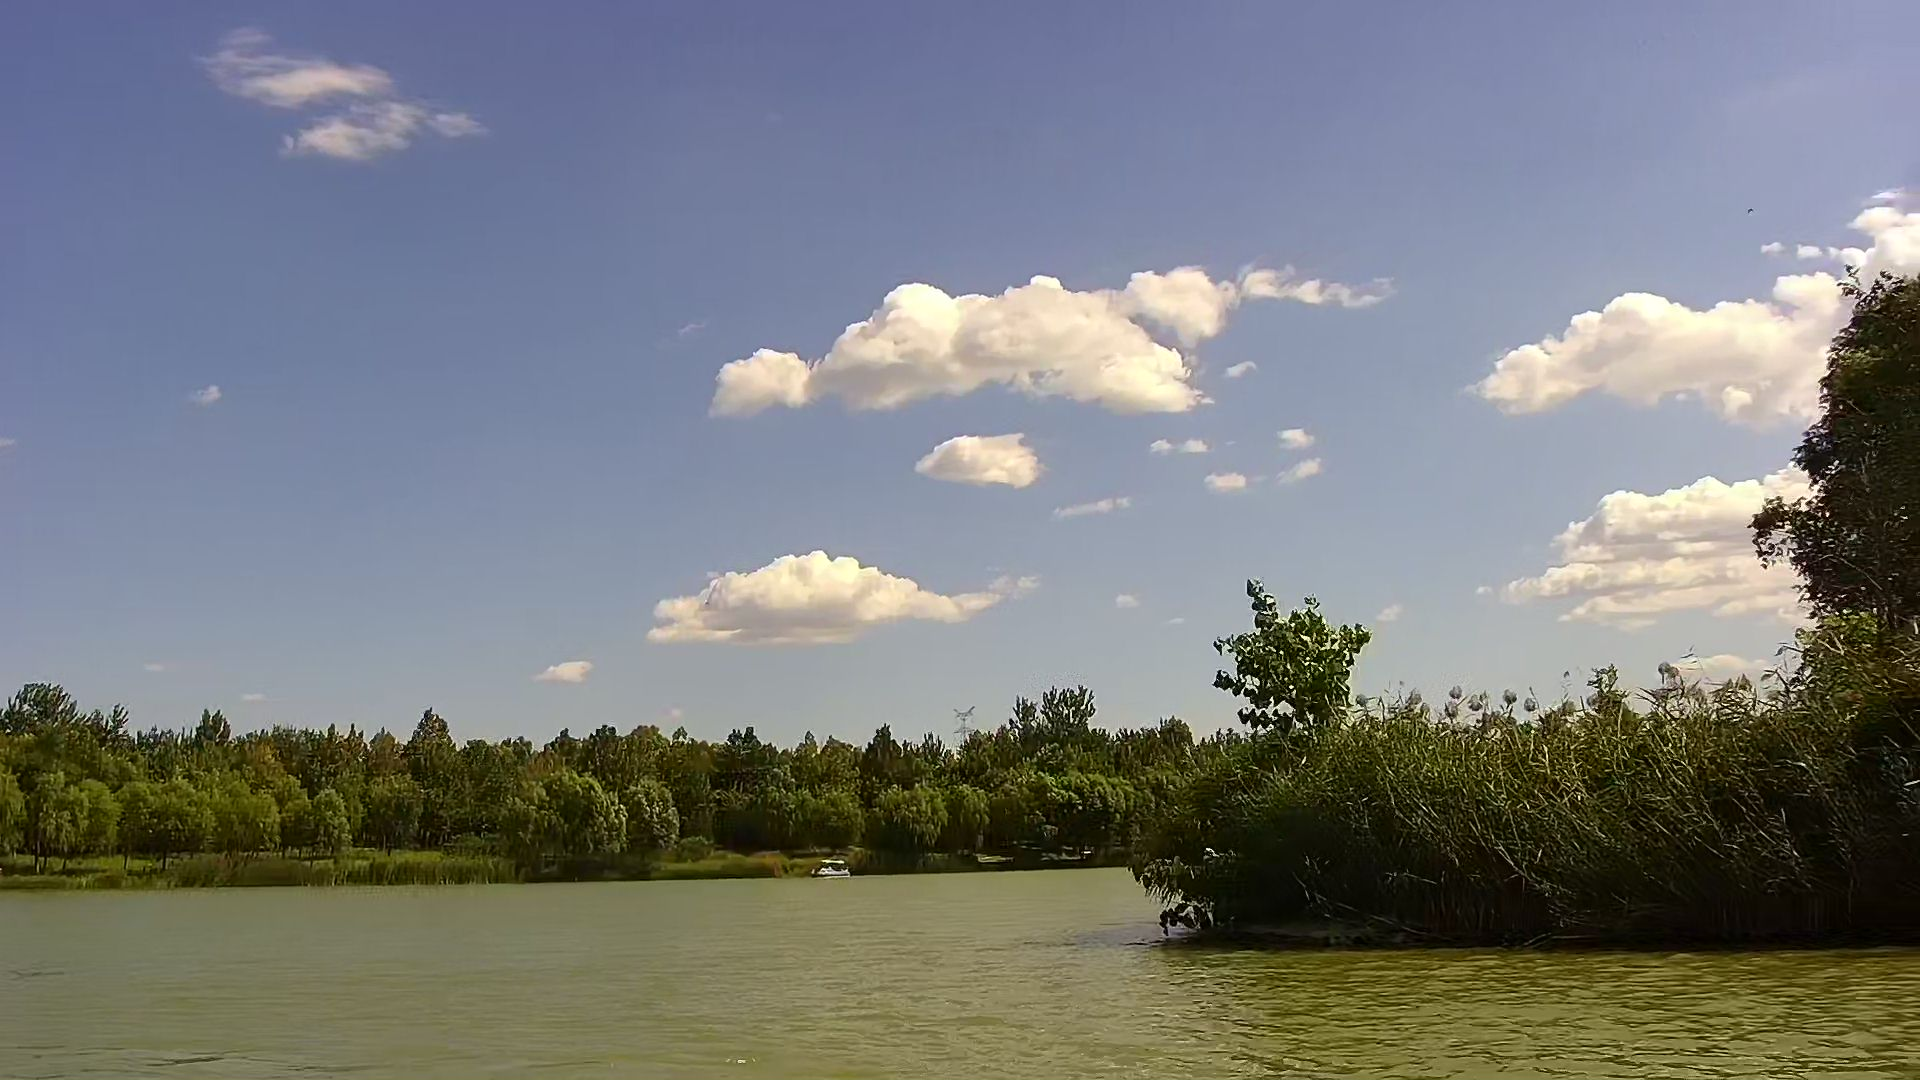boat: (806, 855, 852, 880)
